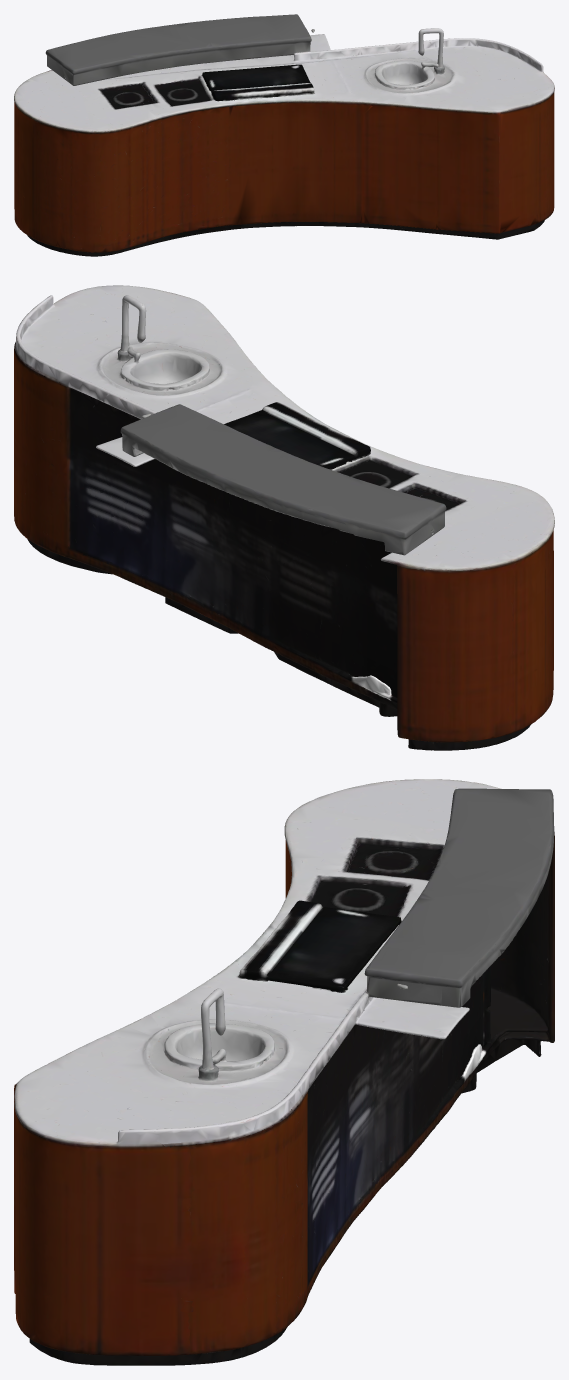
The model's file is curved-walnut-island.glb.
The picture shows the model from 3 angles, top to bottom: view 1: azimuth 30°, elevation 25°; view 2: azimuth 150°, elevation 25°; view 3: azimuth 270°, elevation 25°; orthographic projection. The views are drawn at different scales.
Parts seen in each view (by area): view 1: world; view 2: world; view 3: world.
Boxes of the visible parts, box(x1,y1,x2,y2) form: world: box(14, 14, 554, 256); world: box(14, 285, 554, 750); world: box(14, 779, 554, 1365).
Bounding box in the file's own units: 1 × 0.3928 × 0.6277.
1 material, 1 textured.
